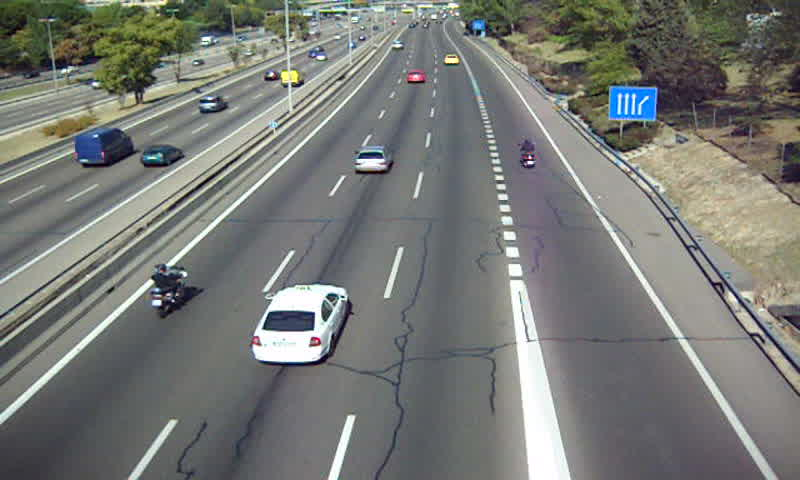car: (253, 285, 349, 364), (353, 147, 395, 174), (407, 70, 425, 86), (444, 54, 461, 65)
motorcycle: (148, 262, 187, 319), (519, 138, 537, 168)
